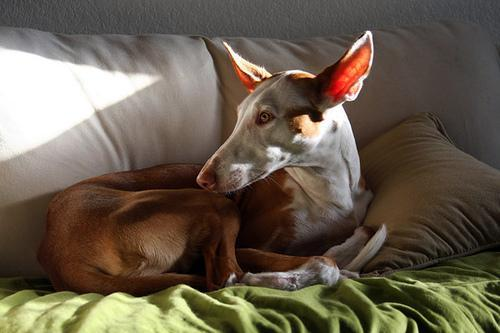Ibizan_hound: (34, 28, 387, 291)
